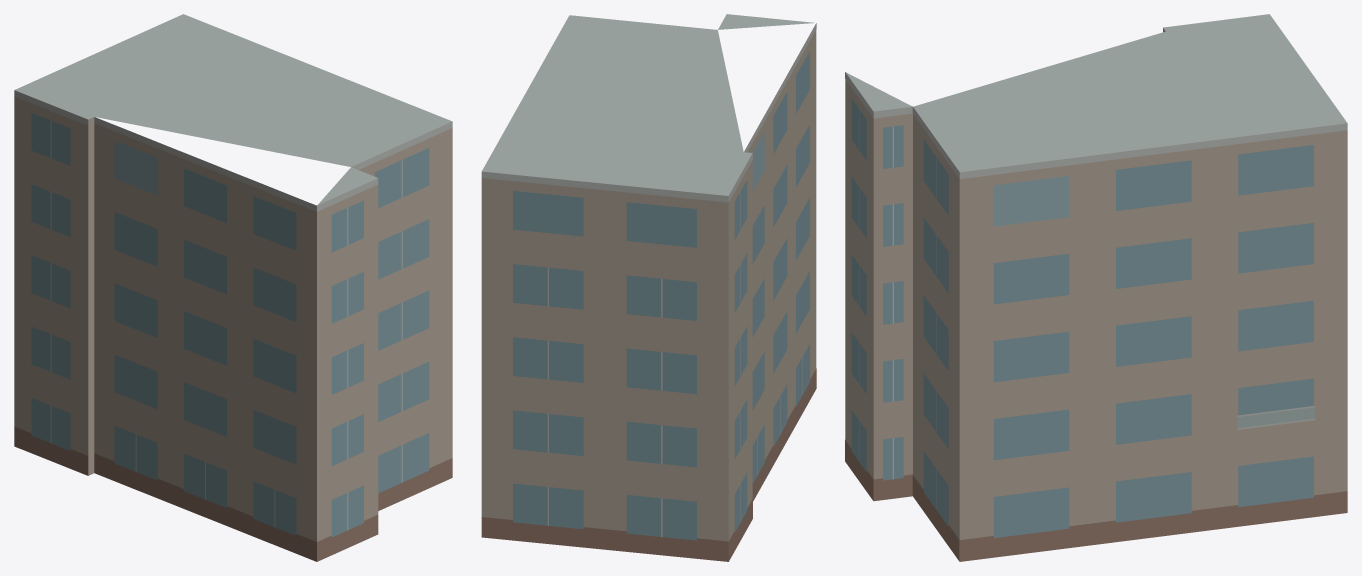
The model's file is survey-upis-32875339.glb.
3 renders of one model, left to right at view 1: azimuth 30°, elevation 25°; view 2: azimuth 150°, elevation 25°; view 3: azimuth 270°, elevation 25°, orthographic. The views are drawn at different scales.
Visible parts, largest first — view 1: survey-upis-32875339.tmp; view 2: survey-upis-32875339.tmp; view 3: survey-upis-32875339.tmp.
Part boxes in pixels (left/top/right/bottom): survey-upis-32875339.tmp: left=14, top=14, right=452, bottom=561; survey-upis-32875339.tmp: left=481, top=14, right=816, bottom=561; survey-upis-32875339.tmp: left=845, top=14, right=1347, bottom=561.
Size of the model in its own units: 12.04 by 13.8 by 16.14.
